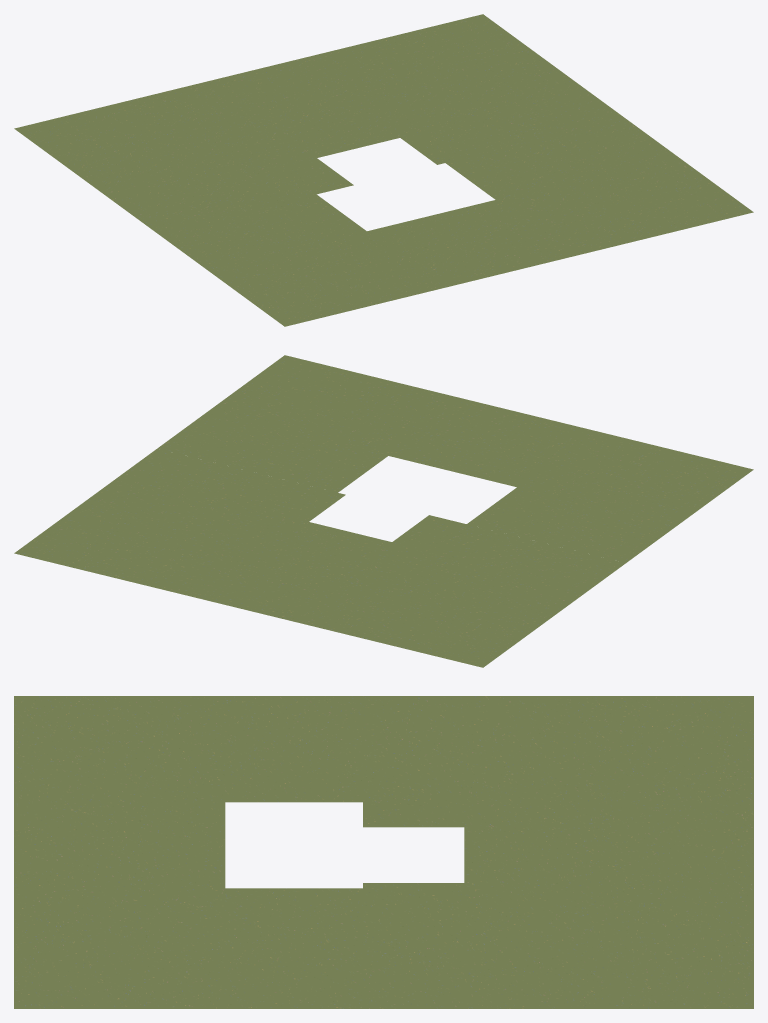
Rendered from HK_GroundFar.glb.
3 views of the same model, one above another, from view 1: azimuth 30°, elevation 25°; view 2: azimuth 150°, elevation 25°; view 3: azimuth 270°, elevation 25° (orthographic). The views are drawn at different scales.
Visible parts, largest first — view 1: HK_GroundFar; view 2: HK_GroundFar; view 3: HK_GroundFar.
Part boxes in pixels (bbox=[...]): HK_GroundFar: bbox=[14, 14, 753, 326]; HK_GroundFar: bbox=[14, 355, 753, 667]; HK_GroundFar: bbox=[14, 696, 753, 1008].
Size of the model in its own units: 1400 by 0.0565 by 1400.
